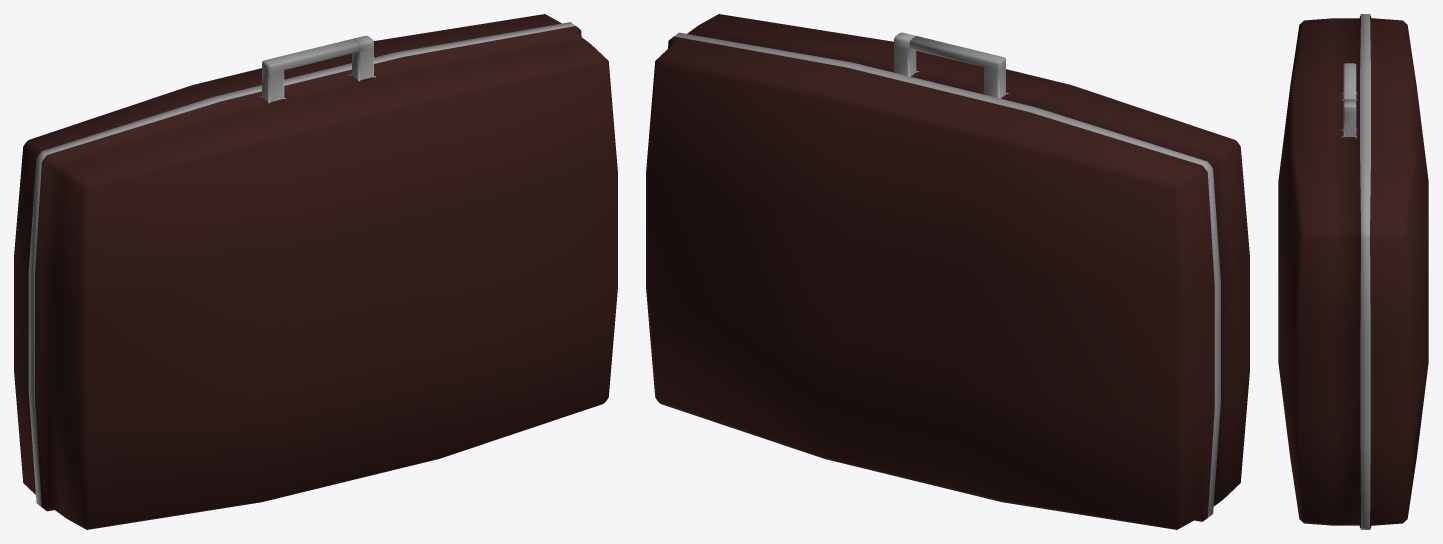
Rendered from OLD_SUITCASE.fbx.
3 renders of one model, left to right at view 1: azimuth 30°, elevation 25°; view 2: azimuth 150°, elevation 25°; view 3: azimuth 270°, elevation 25°, orthographic. The views are drawn at different scales.
Parts seen in each view (by area): view 1: OLD_SUITCASE; view 2: OLD_SUITCASE; view 3: OLD_SUITCASE.
Part boxes in pixels (left/top/right/bottom): OLD_SUITCASE: left=14, top=14, right=617, bottom=529; OLD_SUITCASE: left=646, top=14, right=1249, bottom=529; OLD_SUITCASE: left=1278, top=14, right=1428, bottom=529.
Size of the model in its own units: 53.01 by 37.81 by 14.82.
